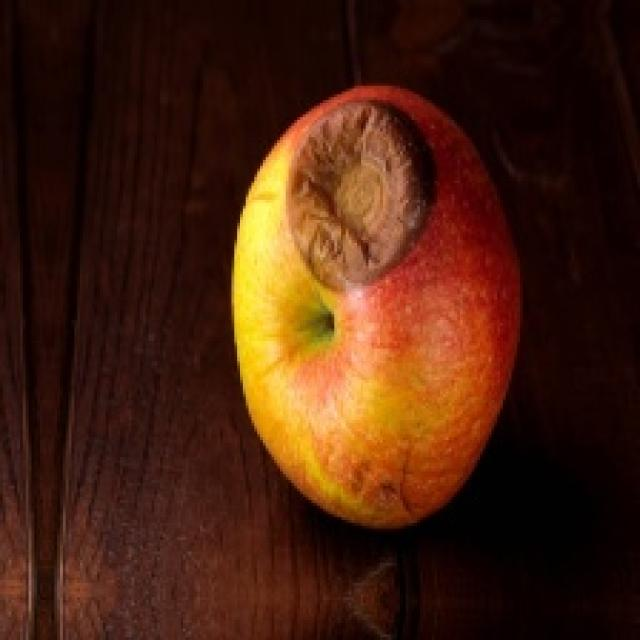rotten_apple: (235, 85, 509, 524)
